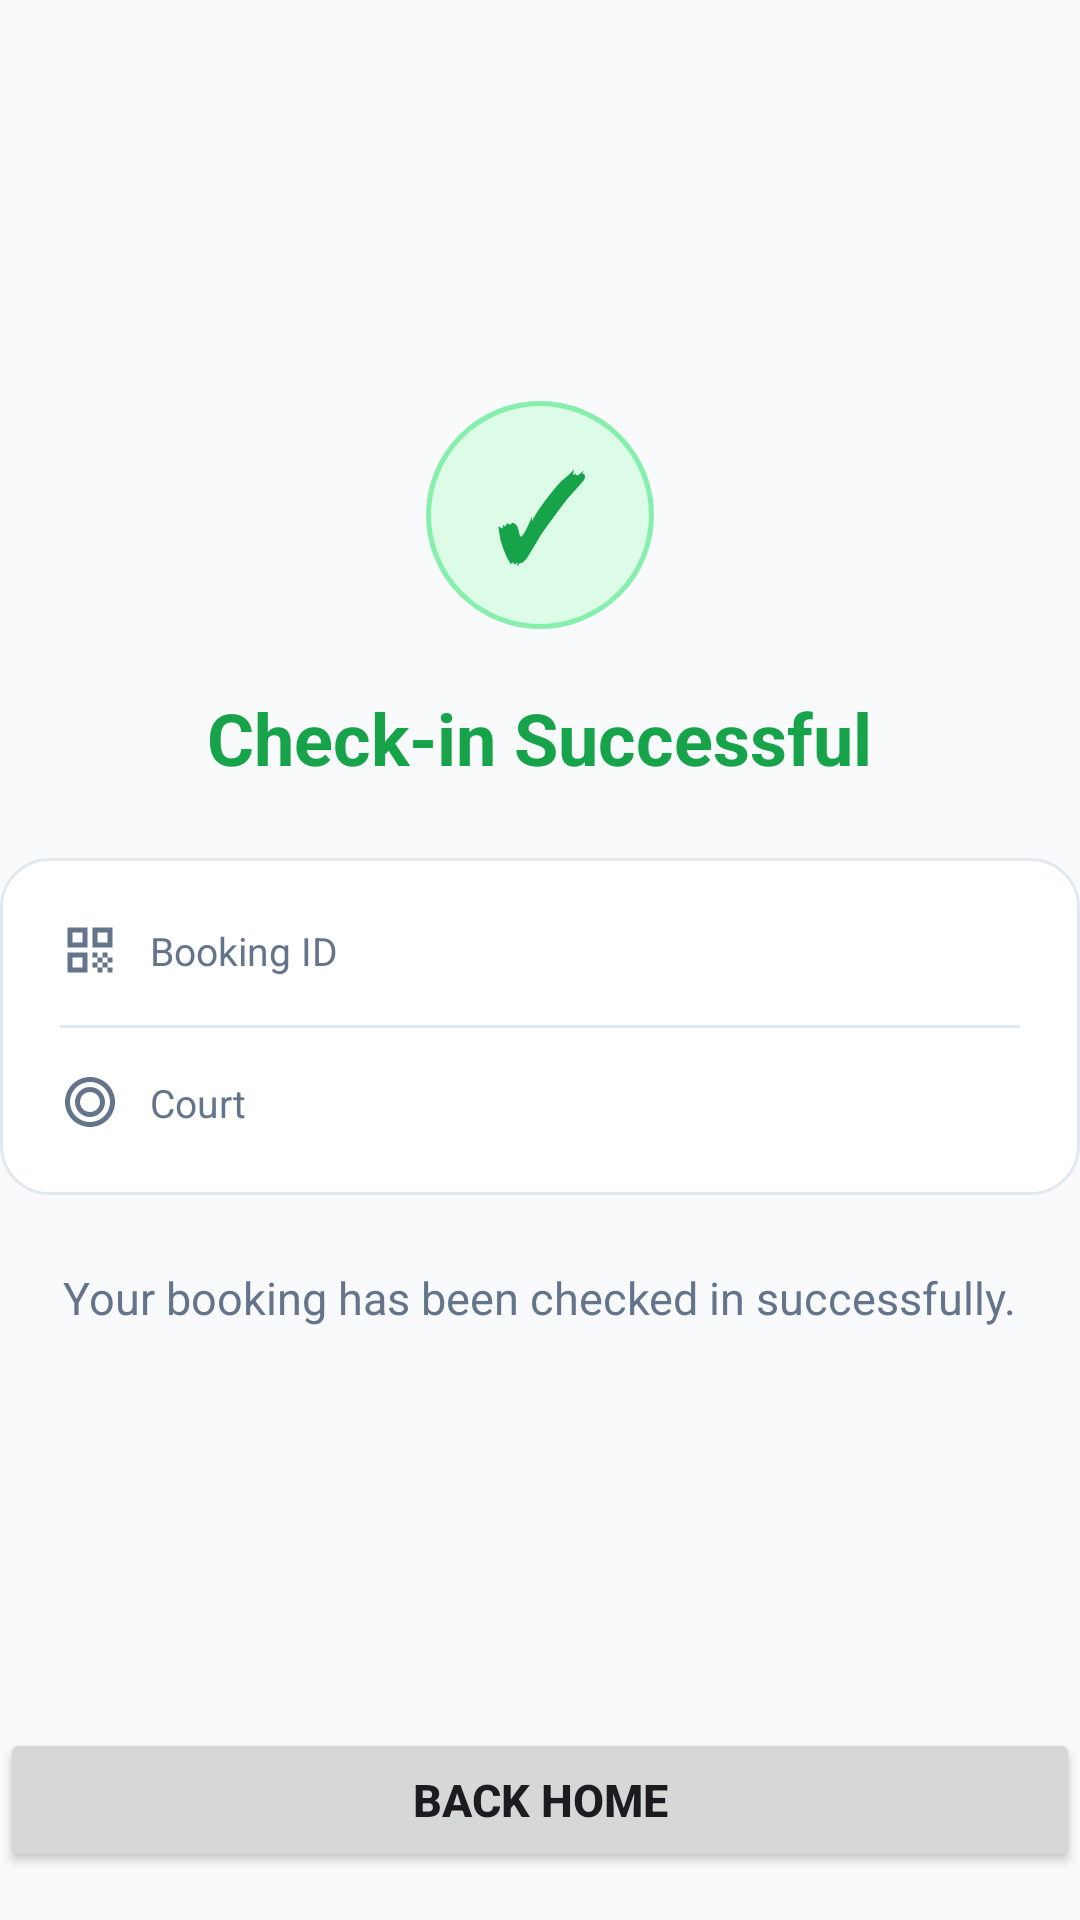

Icons on this 1080px x 1920px Android screen, each with the point to tap as (x=x, y=y):
qr code: (x=90, y=950)
